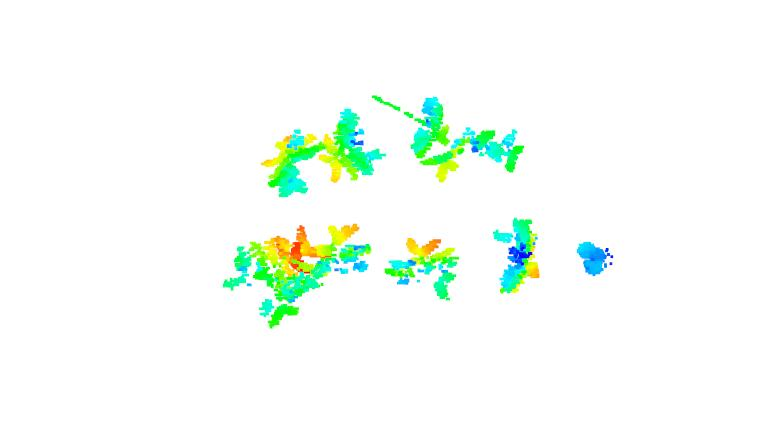chickpea: (226, 241, 300, 331), (308, 217, 379, 299), (388, 232, 461, 304), (322, 107, 387, 187), (256, 127, 324, 202), (412, 98, 465, 189), (487, 215, 541, 299), (473, 124, 531, 176)
